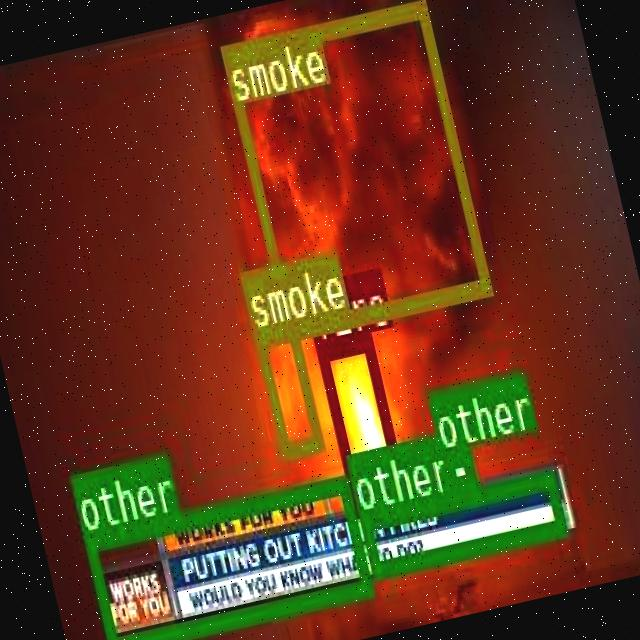fire: (312, 329, 406, 510)
smoke: (216, 0, 489, 338), (251, 321, 321, 457)
